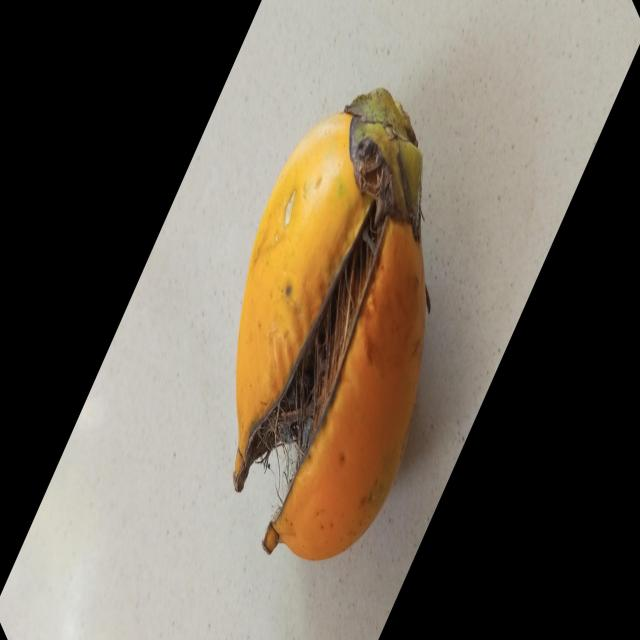damaged: (233, 89, 430, 560)
